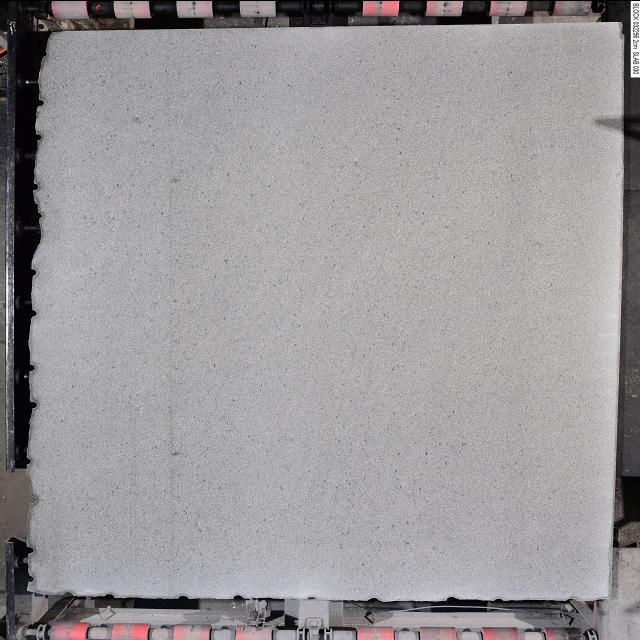chapa: (28, 22, 623, 599)
veio: (23, 492, 40, 506), (31, 96, 47, 108), (30, 130, 46, 142), (22, 544, 38, 556), (58, 589, 76, 599), (230, 593, 247, 603), (25, 266, 40, 277), (27, 180, 41, 190), (23, 362, 37, 372), (25, 399, 39, 409)
